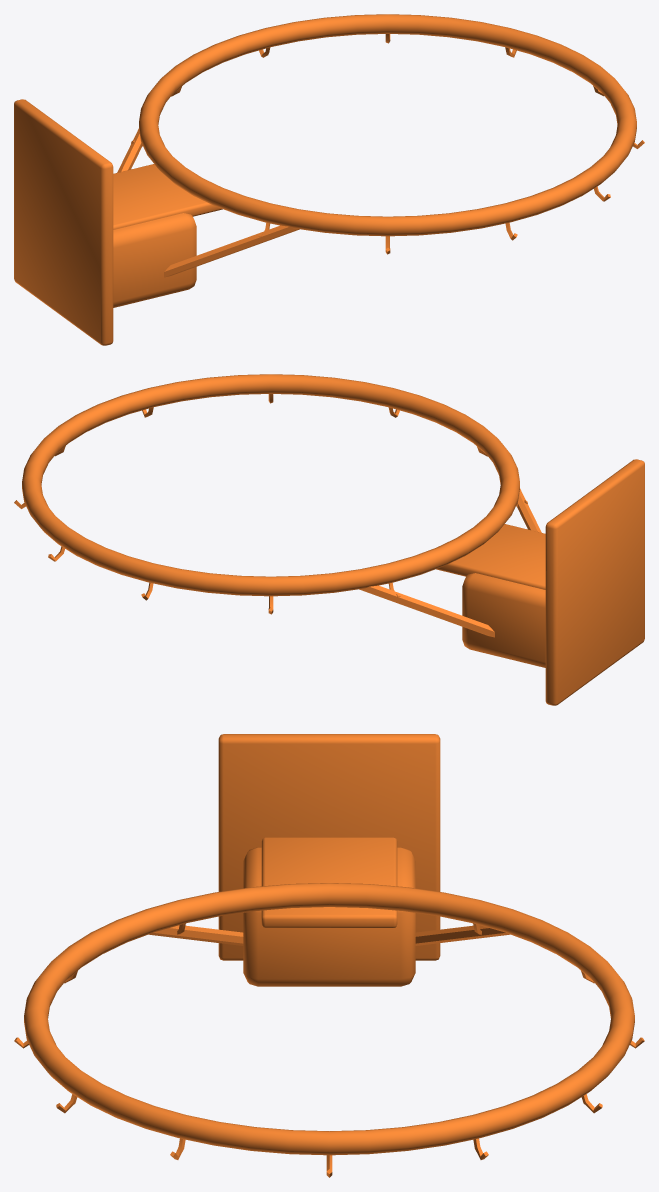
Rendered from SM_Rim.fbx.
The picture shows the model from 3 angles, top to bottom: view 1: azimuth 30°, elevation 25°; view 2: azimuth 150°, elevation 25°; view 3: azimuth 270°, elevation 25°; orthographic projection. The views are drawn at different scales.
Visible parts, largest first — view 1: SM_Rim; view 2: SM_Rim; view 3: SM_Rim.
Boxes of the visible parts, <box> form: SM_Rim: <box>14,14,644,345</box>; SM_Rim: <box>14,374,644,705</box>; SM_Rim: <box>14,734,644,1177</box>.
Size of the model in its own units: 63.63 by 20 by 51.26.
